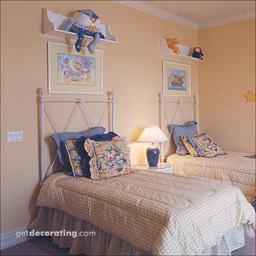Cama: (43, 90, 248, 252), (158, 91, 254, 187)
